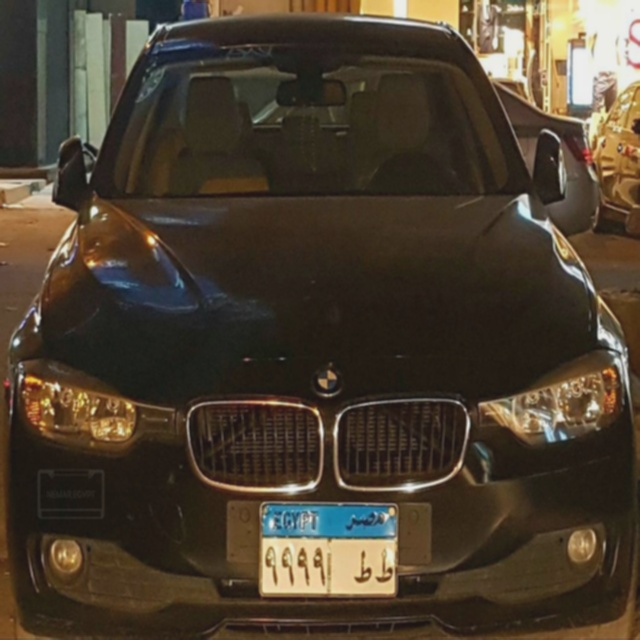License Plate: (256, 497, 402, 605)
